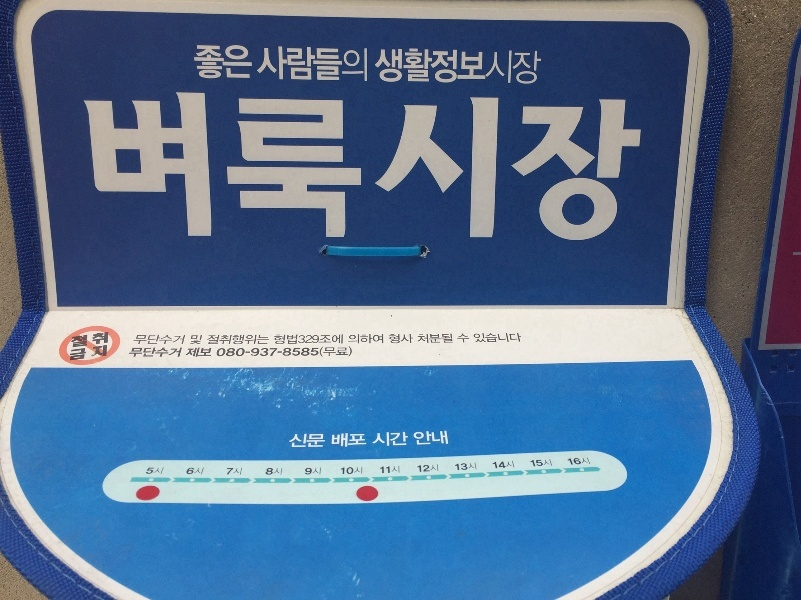text: (81, 94, 96, 244), (97, 94, 112, 244), (113, 94, 128, 244), (129, 94, 144, 244), (145, 94, 160, 244), (161, 94, 176, 244), (177, 94, 192, 244), (193, 94, 208, 244), (209, 94, 224, 244), (225, 94, 240, 244), (241, 94, 256, 244), (257, 94, 272, 244), (273, 94, 288, 244), (289, 94, 304, 244), (305, 94, 320, 244), (321, 94, 336, 244), (337, 94, 352, 244), (353, 94, 368, 244), (369, 94, 384, 244), (385, 94, 400, 244), (401, 94, 416, 244), (417, 94, 432, 244), (433, 94, 448, 244), (449, 94, 464, 244), (465, 94, 480, 244), (481, 94, 496, 244), (497, 94, 512, 244), (513, 94, 528, 244), (529, 94, 544, 244), (545, 94, 560, 244), (561, 94, 576, 244), (577, 94, 592, 244), (593, 94, 608, 244), (609, 94, 624, 244), (625, 94, 640, 244), (641, 94, 647, 244), (353, 44, 369, 84), (385, 47, 400, 87), (401, 47, 416, 87), (417, 47, 432, 87), (433, 47, 448, 87), (449, 47, 464, 87), (465, 47, 480, 87), (481, 47, 496, 87), (497, 47, 512, 87), (513, 47, 528, 87), (273, 44, 288, 84), (289, 44, 304, 84), (305, 44, 320, 84), (321, 44, 336, 84), (337, 44, 352, 84), (209, 42, 224, 80), (225, 42, 240, 80), (194, 42, 208, 80), (529, 47, 542, 87), (260, 44, 272, 84), (241, 42, 253, 80), (374, 47, 384, 87), (97, 332, 109, 358), (433, 430, 449, 447), (417, 430, 432, 447), (71, 334, 80, 362), (385, 431, 400, 447), (337, 433, 352, 448), (353, 433, 368, 448), (305, 433, 320, 448), (81, 334, 88, 362), (291, 433, 304, 448), (337, 346, 353, 358), (321, 346, 336, 358), (145, 347, 160, 358), (161, 347, 176, 358), (145, 334, 160, 345), (161, 334, 176, 345), (193, 347, 208, 358), (289, 334, 304, 345), (305, 334, 320, 345), (321, 334, 336, 345), (481, 333, 496, 344), (497, 333, 512, 344), (225, 347, 240, 358), (241, 347, 256, 358), (257, 347, 272, 358), (273, 347, 288, 358), (289, 347, 304, 358), (274, 334, 288, 345), (305, 347, 319, 358), (209, 335, 224, 345), (225, 335, 240, 345), (241, 335, 256, 345), (353, 334, 368, 344), (369, 334, 384, 344), (417, 334, 432, 344), (433, 334, 448, 344), (375, 431, 384, 447), (131, 347, 144, 358), (385, 466, 400, 475), (497, 461, 512, 470), (257, 335, 270, 345), (401, 334, 414, 344), (401, 431, 409, 447), (577, 457, 591, 466), (305, 468, 320, 476), (417, 465, 432, 473), (226, 468, 240, 476), (530, 459, 544, 467), (193, 335, 203, 346), (389, 334, 400, 344), (193, 467, 205, 476), (465, 462, 477, 471), (177, 334, 186, 345), (513, 333, 522, 344), (148, 467, 160, 475), (341, 467, 352, 475), (136, 334, 144, 345), (455, 462, 464, 471), (567, 457, 576, 466), (273, 468, 283, 476), (353, 467, 363, 475), (93, 332, 96, 358), (473, 333, 480, 344), (217, 347, 224, 358), (321, 433, 326, 448), (412, 430, 416, 447), (177, 347, 183, 358), (337, 334, 343, 345), (545, 459, 553, 467), (332, 433, 336, 448), (458, 334, 464, 344), (187, 347, 192, 358), (465, 334, 470, 344), (433, 465, 439, 473), (267, 468, 272, 476), (449, 334, 453, 344), (188, 467, 192, 476), (380, 466, 384, 475), (492, 461, 496, 470), (209, 347, 212, 358), (161, 467, 165, 475), (349, 334, 352, 344), (513, 461, 515, 470), (241, 468, 243, 476), (321, 468, 322, 476)
